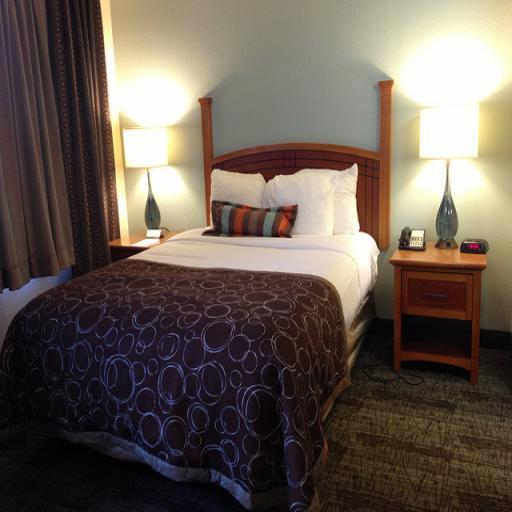bed: (16, 64, 396, 490)
